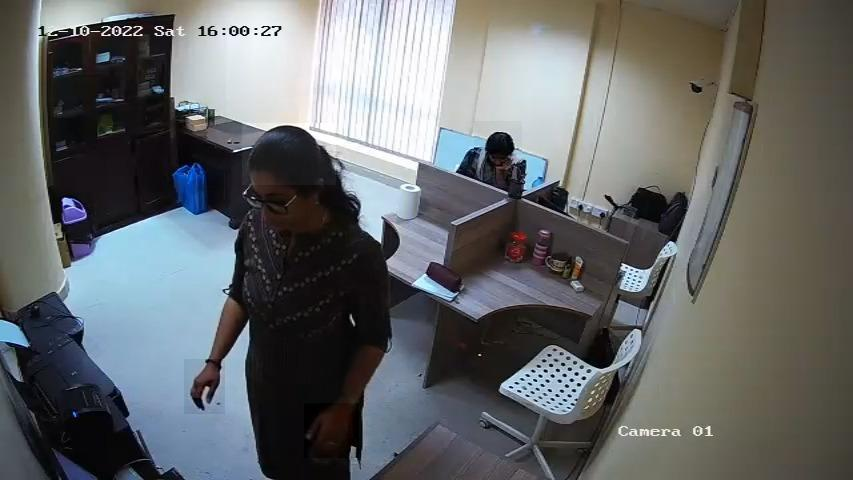no_apron: (305, 403, 360, 458), (184, 360, 225, 415), (496, 159, 516, 182)
no_gloves: (243, 123, 337, 185), (474, 122, 522, 156)
no_hairnet: (248, 191, 310, 238), (486, 149, 511, 167)
